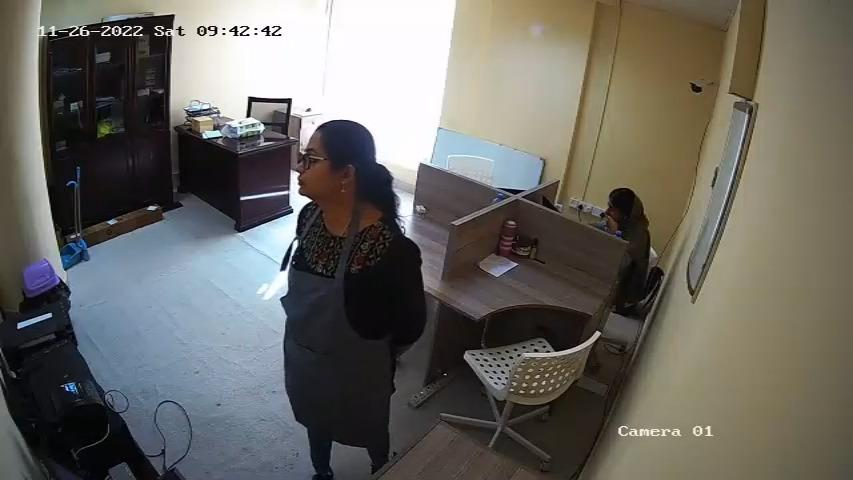apron: (288, 217, 375, 420)
